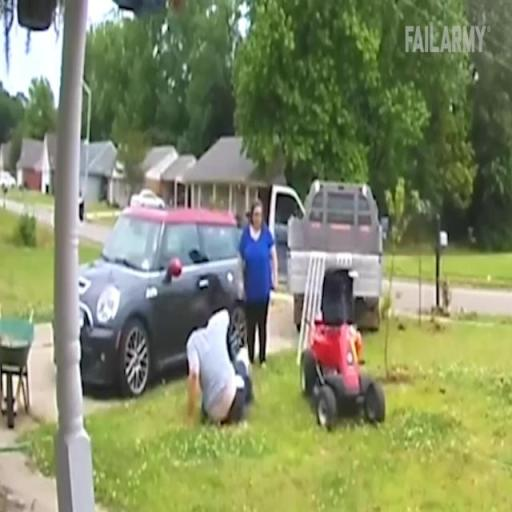Fall: (182, 293, 253, 426)
